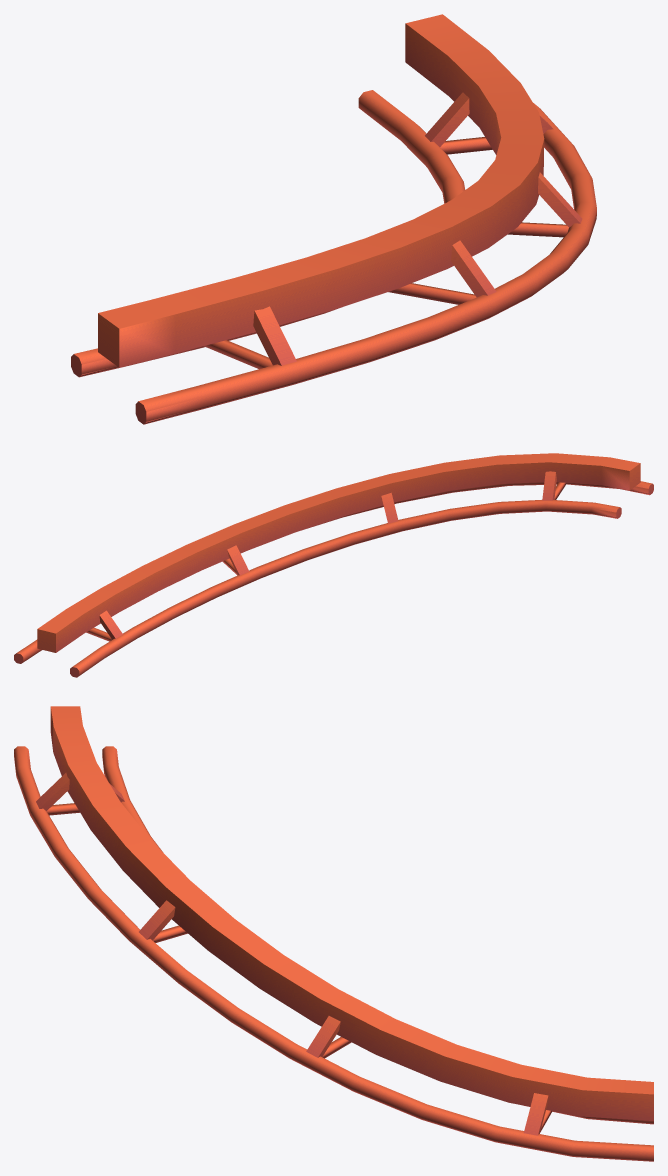
Rendered from coaster-hanging-corner-large-ramp.glb.
3 views of the same model, one above another, from view 1: azimuth 30°, elevation 25°; view 2: azimuth 150°, elevation 25°; view 3: azimuth 270°, elevation 25° (orthographic). The views are drawn at different scales.
Parts seen in each view (by area): view 1: coaster-hanging-corner-large-ramp; view 2: coaster-hanging-corner-large-ramp; view 3: coaster-hanging-corner-large-ramp.
Part boxes in pixels (x1=…): coaster-hanging-corner-large-ramp: x1=71, y1=14, x2=596, y2=424; coaster-hanging-corner-large-ramp: x1=14, y1=453, x2=653, y2=677; coaster-hanging-corner-large-ramp: x1=14, y1=706, x2=653, y2=1161.
Bounding box in the file's own units: 13.05 × 4.2 × 13.05.
1 material, 1 textured.
